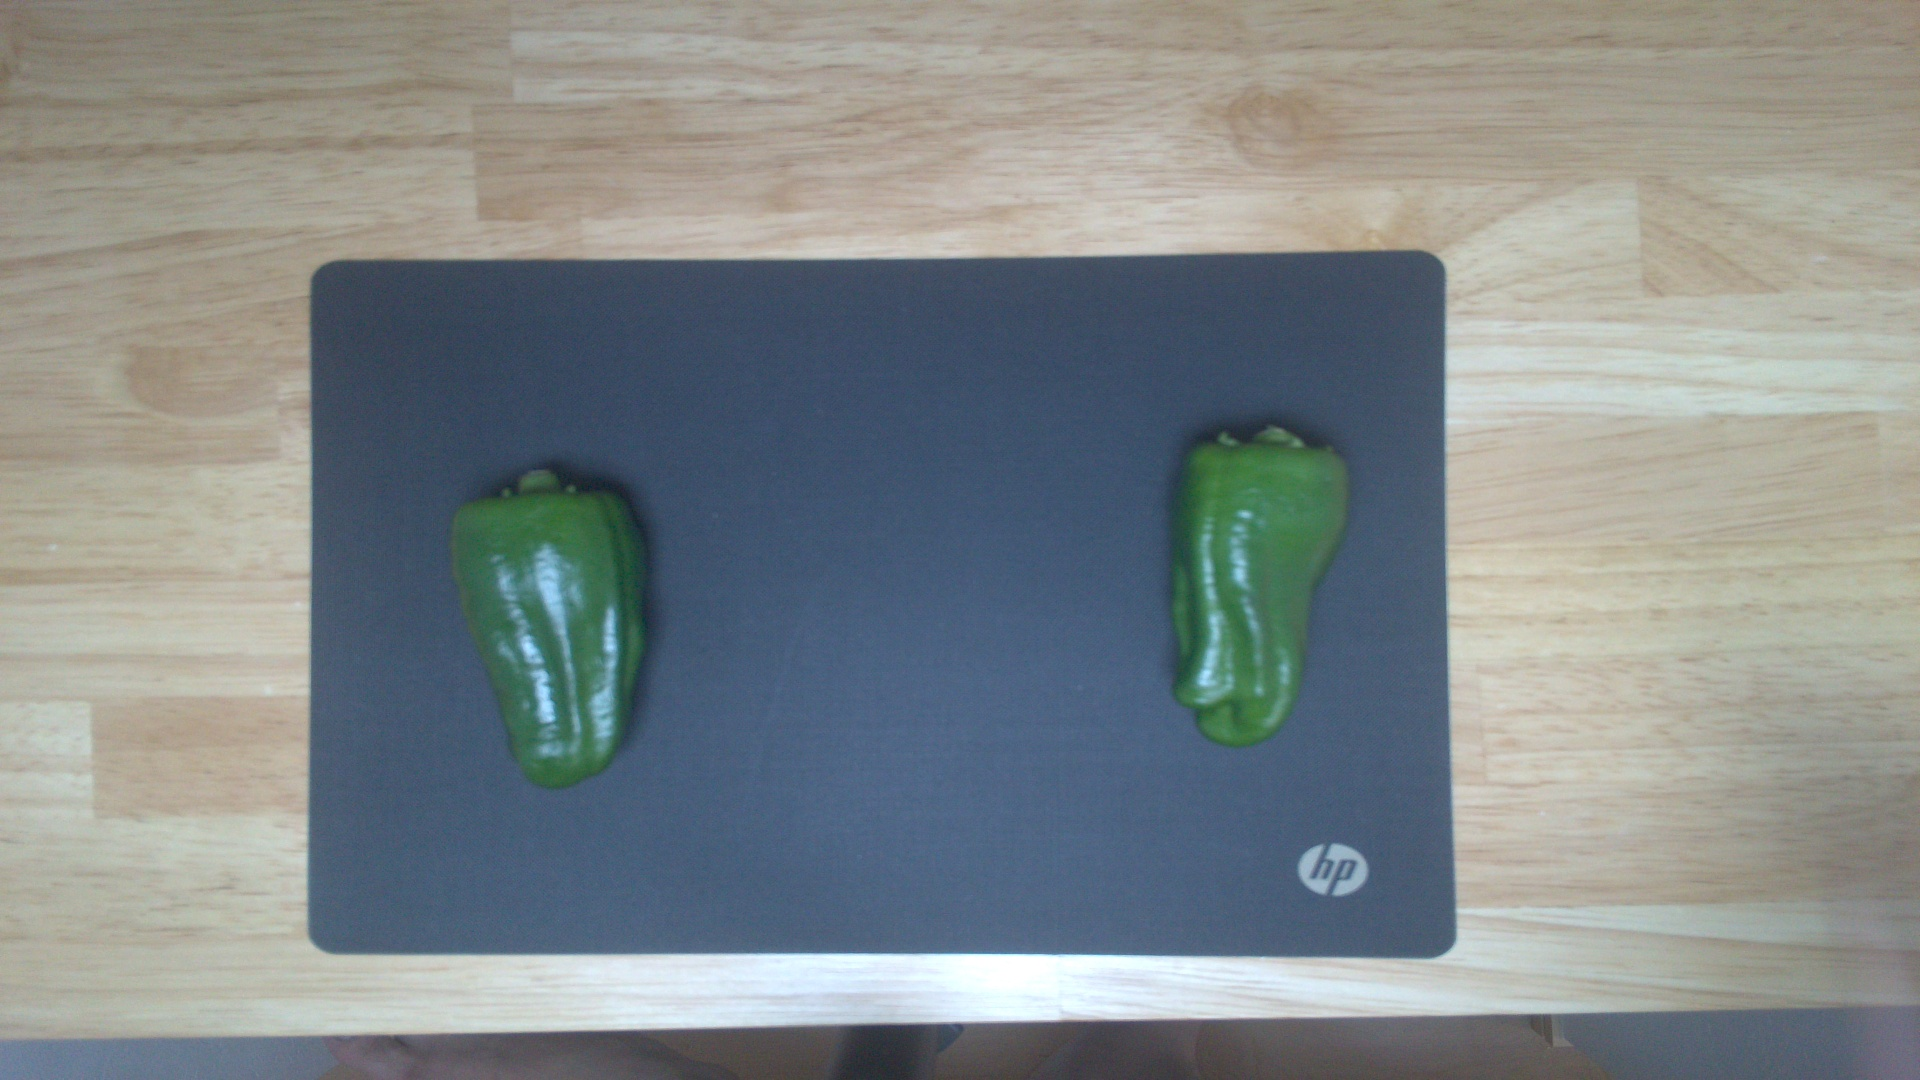Piman: (444, 467, 655, 787), (1160, 422, 1356, 748)
